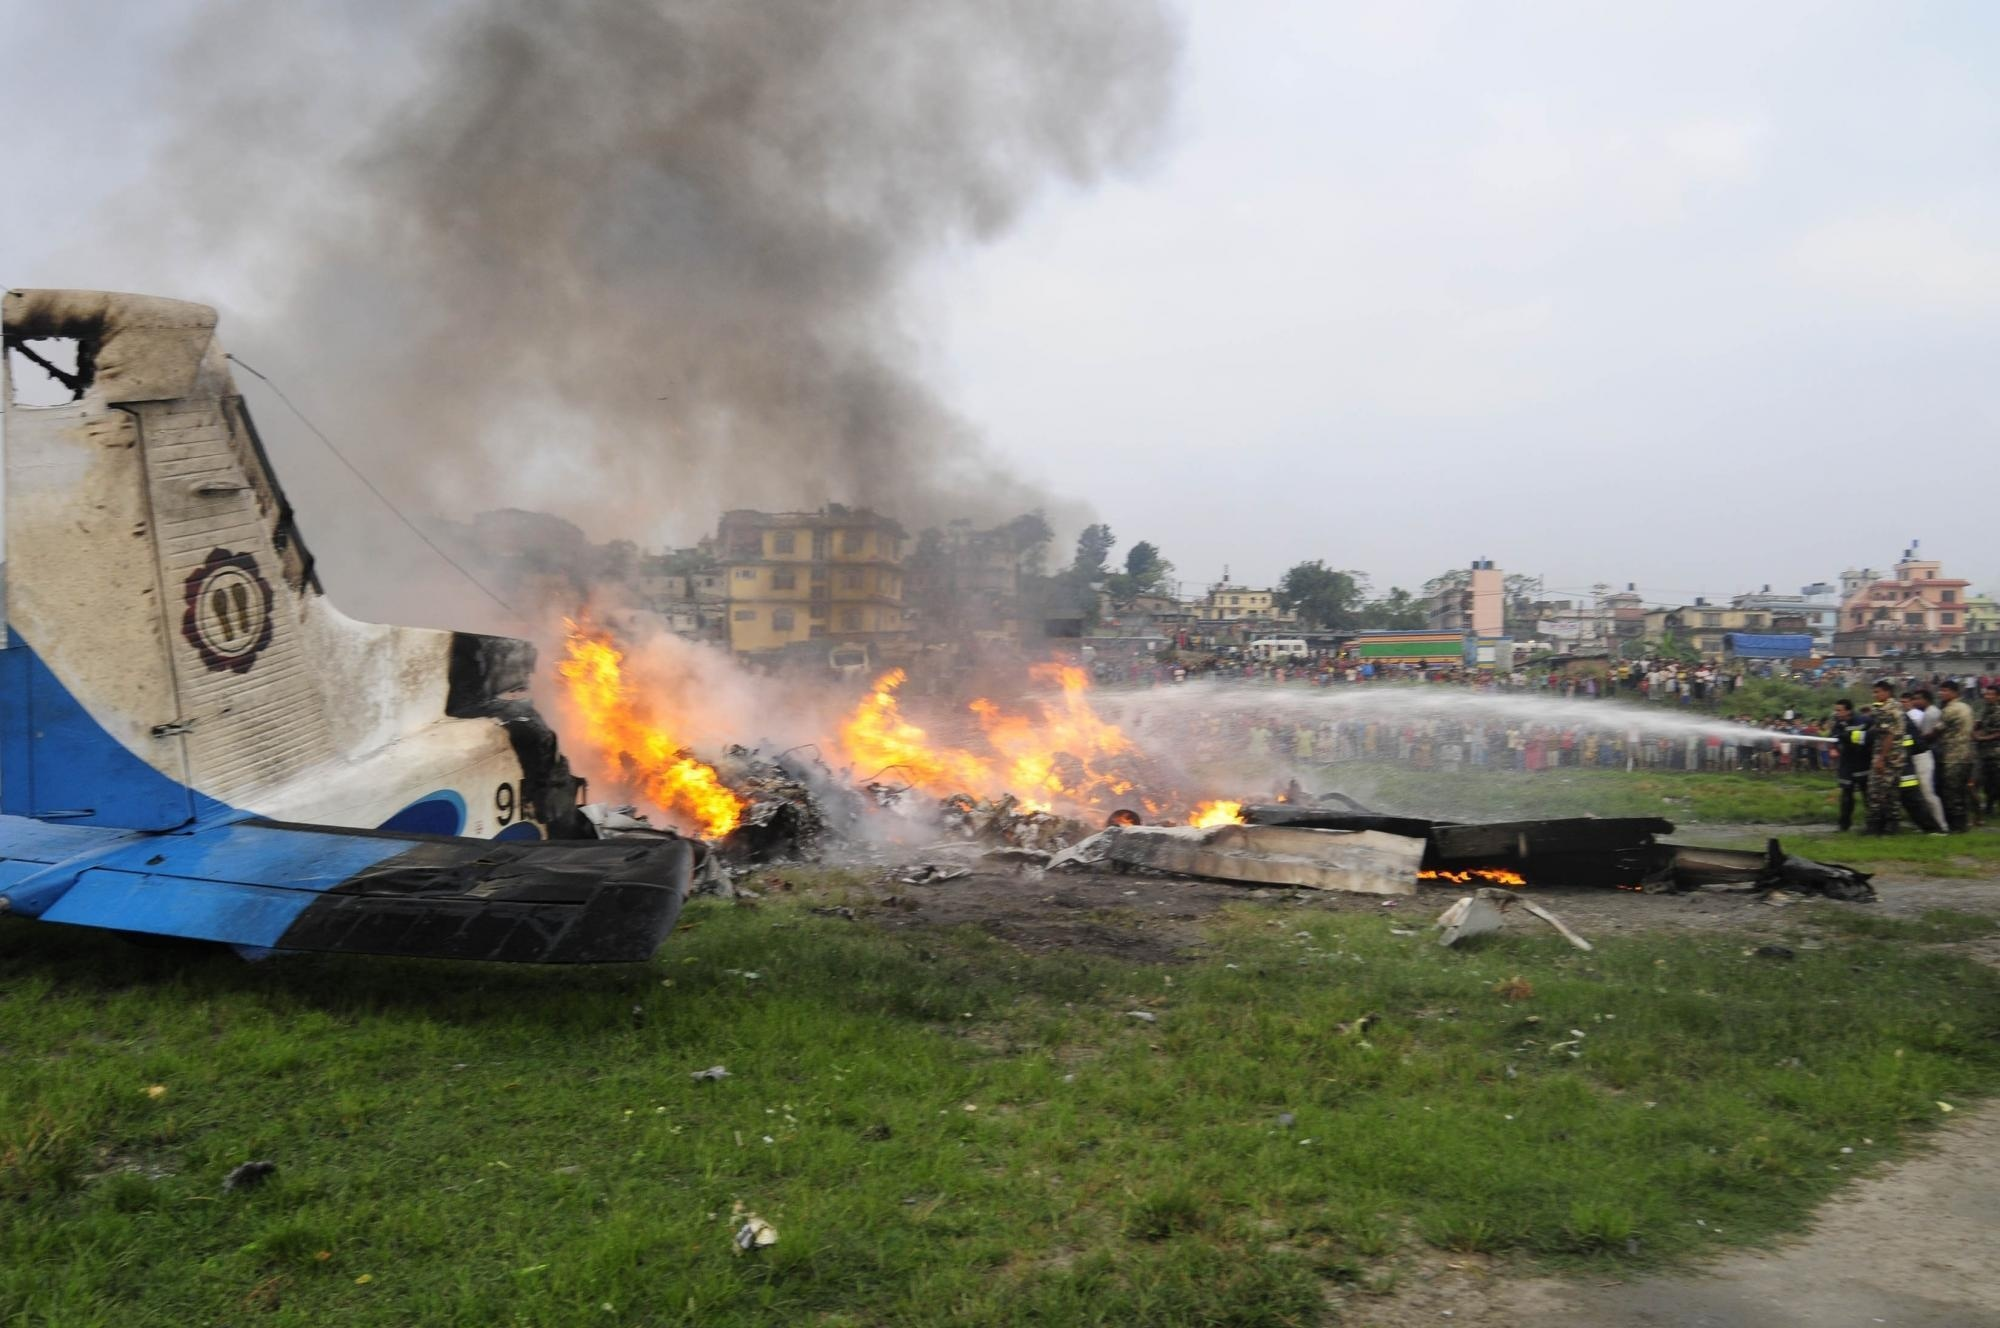fire: (833, 663, 1246, 840), (554, 622, 742, 846)
